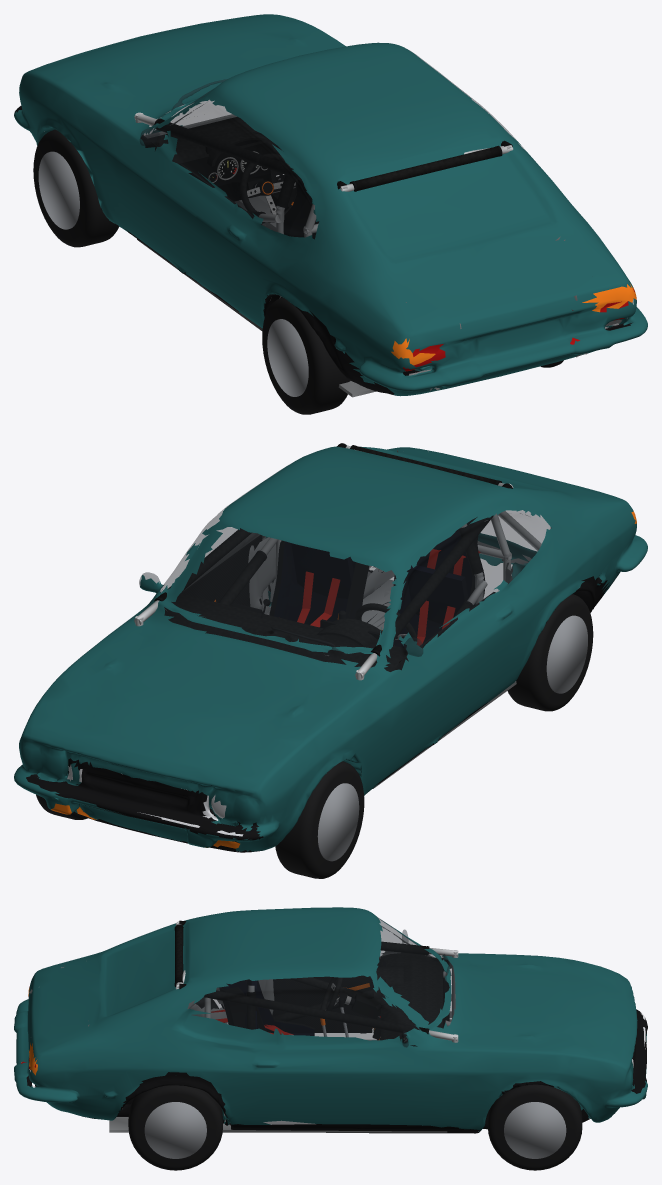
The model's file is car_kite.glb.
The picture shows the model from 3 angles, top to bottom: view 1: azimuth 30°, elevation 25°; view 2: azimuth 150°, elevation 25°; view 3: azimuth 270°, elevation 25°; orthographic projection. The views are drawn at different scales.
Visible parts, largest first — view 1: Body, Interior, WheelRL, WheelFL.006, SteeringWheelMesh; view 2: Body, Interior, WheelFL.006, WheelRL; view 3: Body, Interior, WheelRR, WheelFR.006, SteeringWheelMesh.
Boxes of the visible parts, bbox=[...] form: Body: bbox=[14, 14, 647, 396]; Interior: bbox=[134, 104, 627, 397]; WheelRL: bbox=[262, 297, 350, 414]; WheelFL.006: bbox=[33, 129, 119, 247]; SteeringWheelMesh: bbox=[240, 153, 297, 222]; Body: bbox=[14, 446, 647, 852]; Interior: bbox=[134, 443, 593, 788]; WheelFL.006: bbox=[275, 761, 364, 878]; WheelRL: bbox=[507, 594, 593, 711]; Body: bbox=[14, 907, 647, 1133]; Interior: bbox=[29, 920, 458, 1132]; WheelRR: bbox=[128, 1085, 222, 1170]; WheelFR.006: bbox=[488, 1084, 582, 1170]; SteeringWheelMesh: bbox=[320, 977, 351, 1010].
Size of the model in its own units: 1.82 by 1.43 by 4.5.
Materials: 33 (9 with a texture image).
